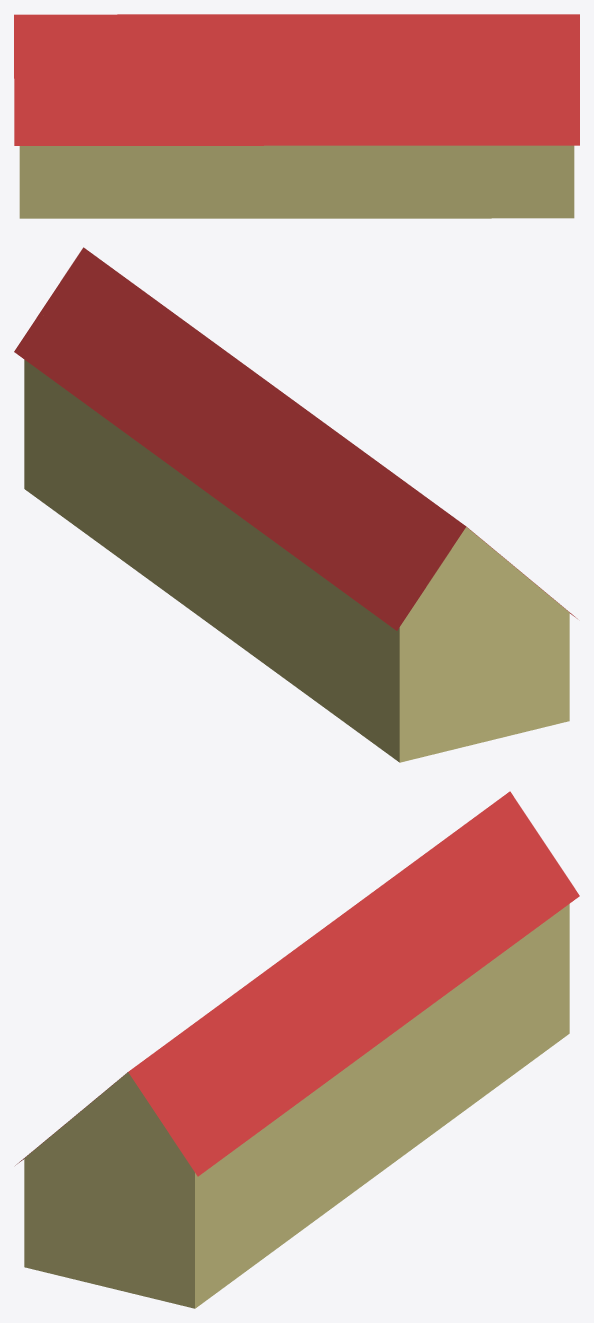
3 views of the same model, one above another, from view 1: azimuth 30°, elevation 25°; view 2: azimuth 150°, elevation 25°; view 3: azimuth 270°, elevation 25° (orthographic). The views are drawn at different scales.
Bounding box in the file's own units: 25.71 × 18.89 × 8.26.
